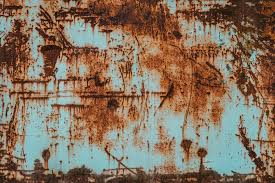rust: (232, 1, 270, 110), (94, 4, 192, 43), (1, 29, 35, 74), (86, 71, 117, 117), (39, 41, 67, 71)
